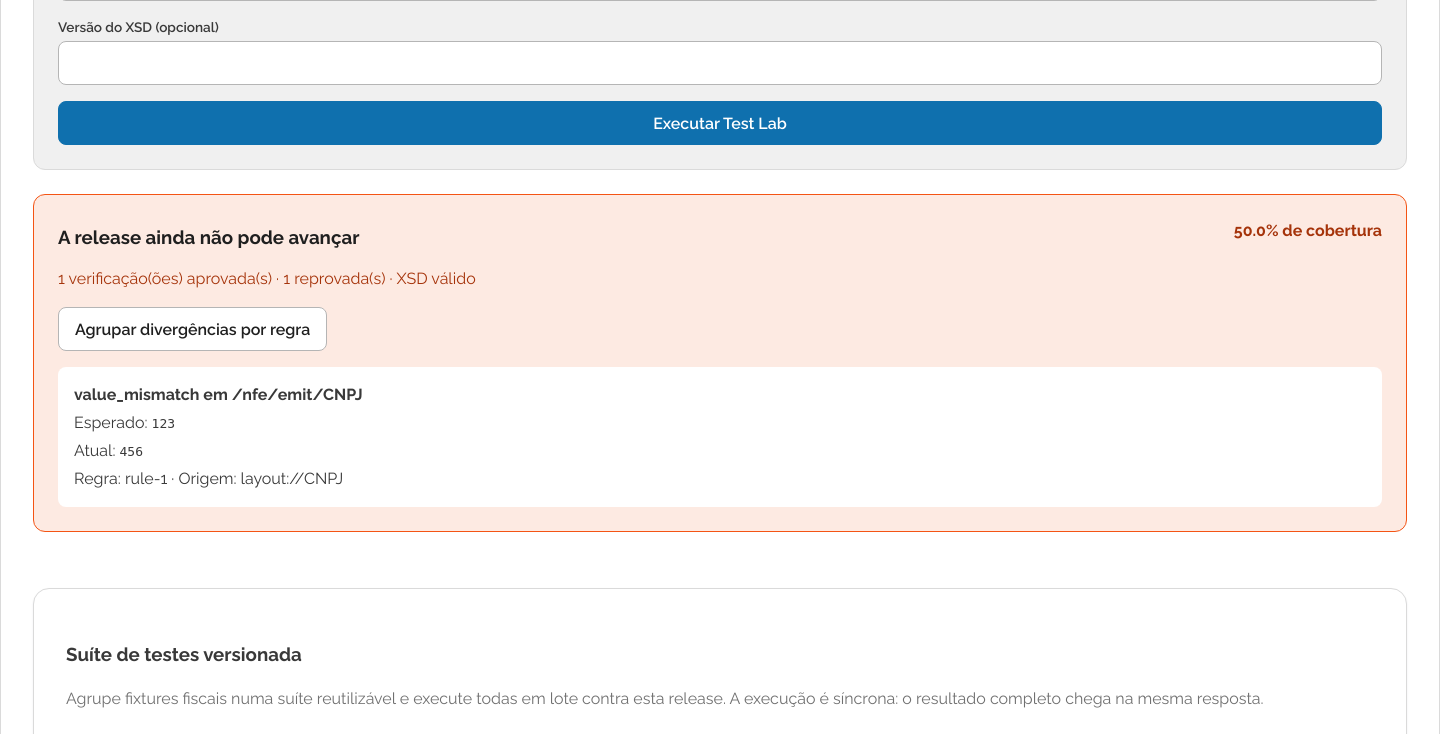
Test: MappingTestLabPanel › agrupa divergências por ruleId quando divergencesByRuleId está populado
(page scrolled)
Click the button "Agrupar divergências por regra" at (193, 329), box top-left (58, 307), bottom-right (327, 351)
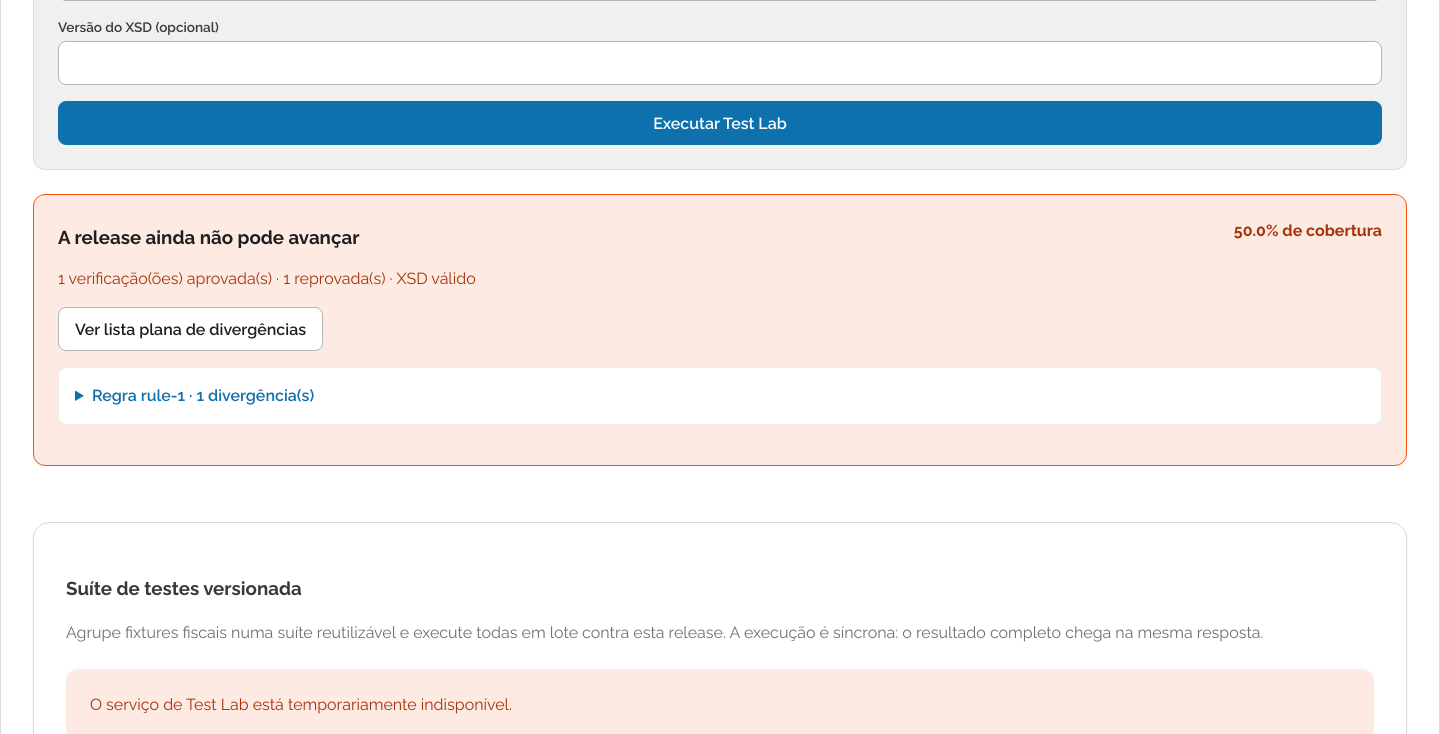
Check: the heading "Regra rule-1 · 1 divergência(s)" is shown, box top-left (92, 386), bottom-right (314, 405)
Check: the button "Ver lista plana de divergências" is shown, box top-left (58, 307), bottom-right (323, 351)
